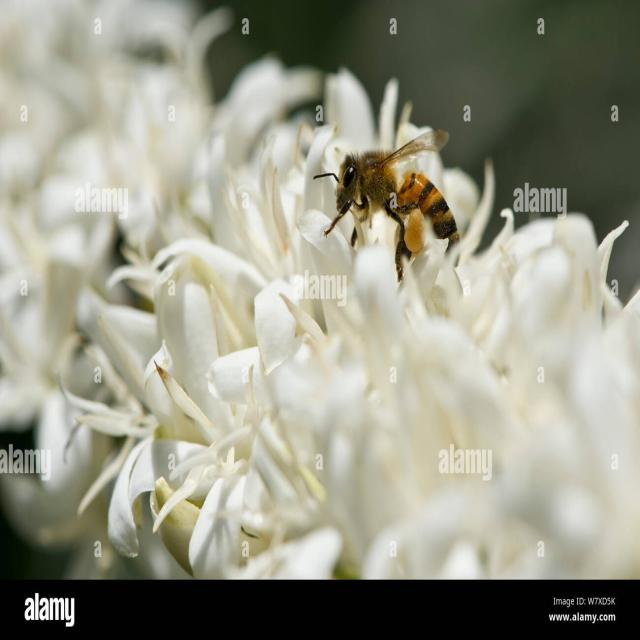Allodapula: (305, 124, 483, 274)
